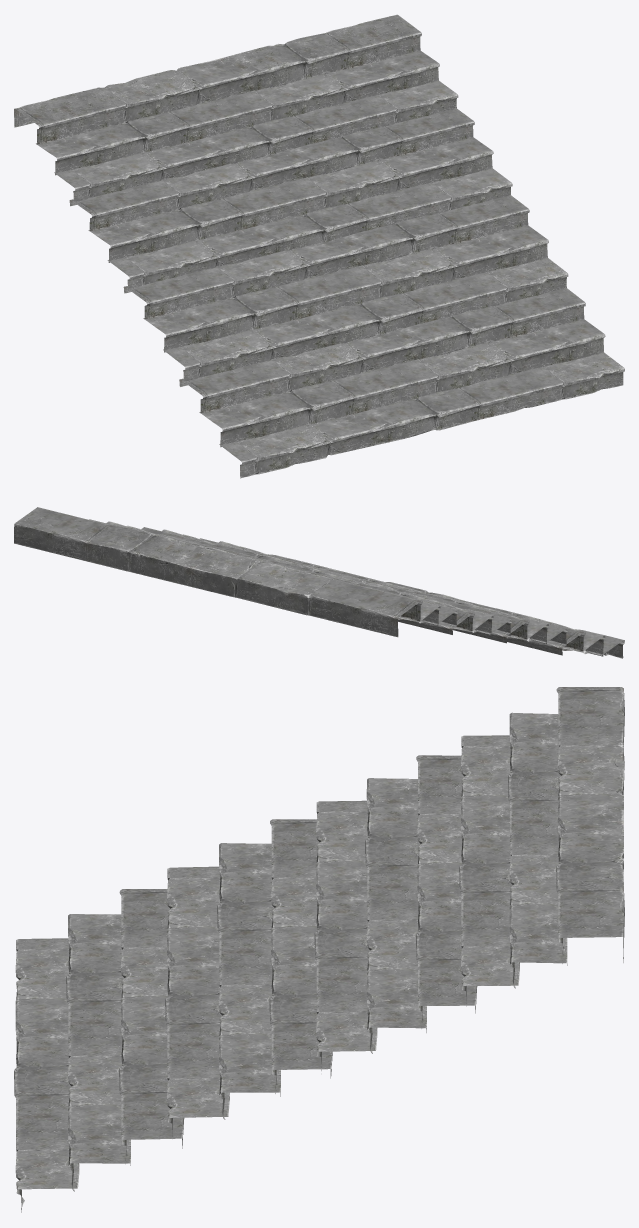
The picture shows the model from 3 angles, top to bottom: view 1: azimuth 30°, elevation 25°; view 2: azimuth 150°, elevation 25°; view 3: azimuth 270°, elevation 25°; orthographic projection. The views are drawn at different scales.
Parts seen in each view (by area): view 1: SM_DungeonSteps_LOD0; view 2: SM_DungeonSteps_LOD0; view 3: SM_DungeonSteps_LOD0.
Boxes of the visible parts, box(x1,y1,x2,y2) form: SM_DungeonSteps_LOD0: box(14, 14, 624, 478); SM_DungeonSteps_LOD0: box(14, 507, 624, 658); SM_DungeonSteps_LOD0: box(14, 687, 624, 1212).
Size of the model in its own units: 6.04 by 3.1 by 6.19.
1 material, 1 textured.
